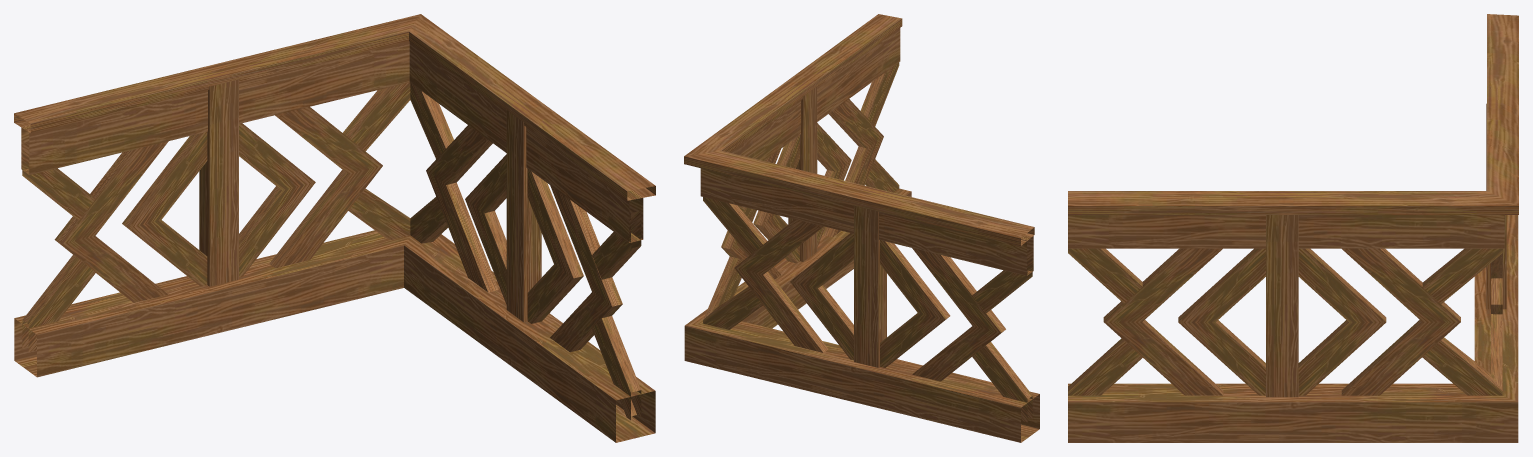
The model's file is wall-qm-balconycrosscorner.glb.
3 views of the same model, side by side, from view 1: azimuth 30°, elevation 25°; view 2: azimuth 150°, elevation 25°; view 3: azimuth 270°, elevation 25° (orthographic). The views are drawn at different scales.
Visible parts, largest first — view 1: Cube_106; view 2: Cube_106; view 3: Cube_106.
Part boxes in pixels (left/top/right/bottom): Cube_106: left=14, top=14, right=655, bottom=442; Cube_106: left=684, top=14, right=1039, bottom=442; Cube_106: left=1068, top=14, right=1518, bottom=442.
Size of the model in its own units: 2.1 by 1.23 by 2.1.
Materials: 1 (1 with a texture image).
